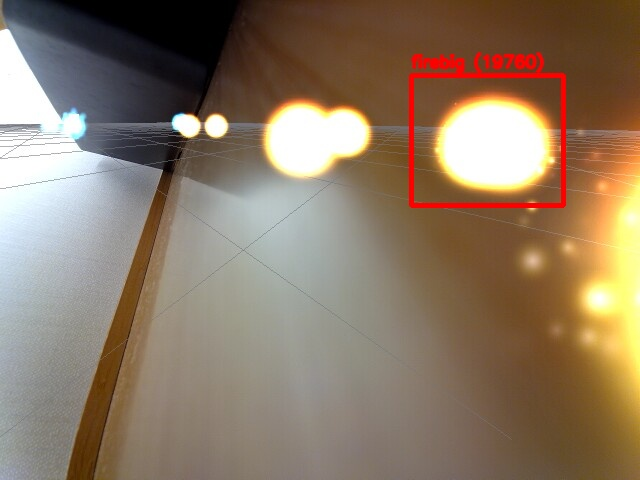firebig: (411, 75, 563, 205)
